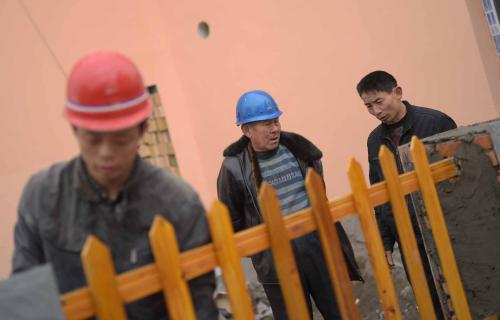hard-hat: (63, 50, 153, 132), (235, 89, 283, 126)
person: (10, 50, 219, 320), (215, 90, 363, 320), (356, 70, 459, 296)
